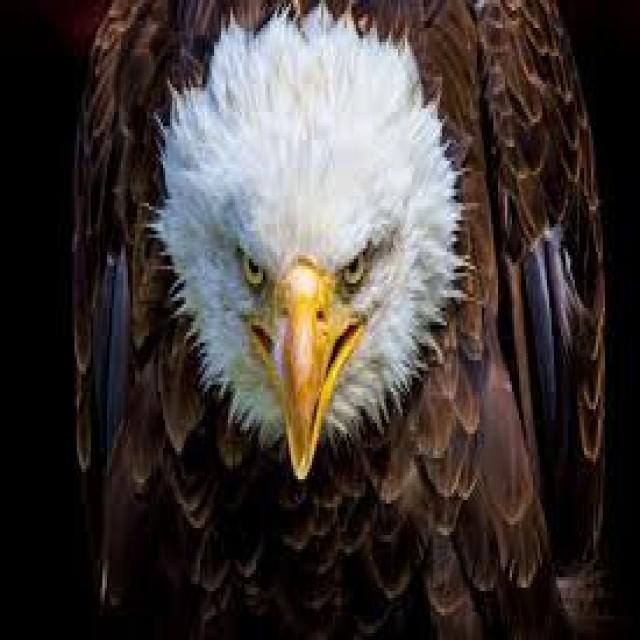Eagle: (84, 5, 605, 640)
